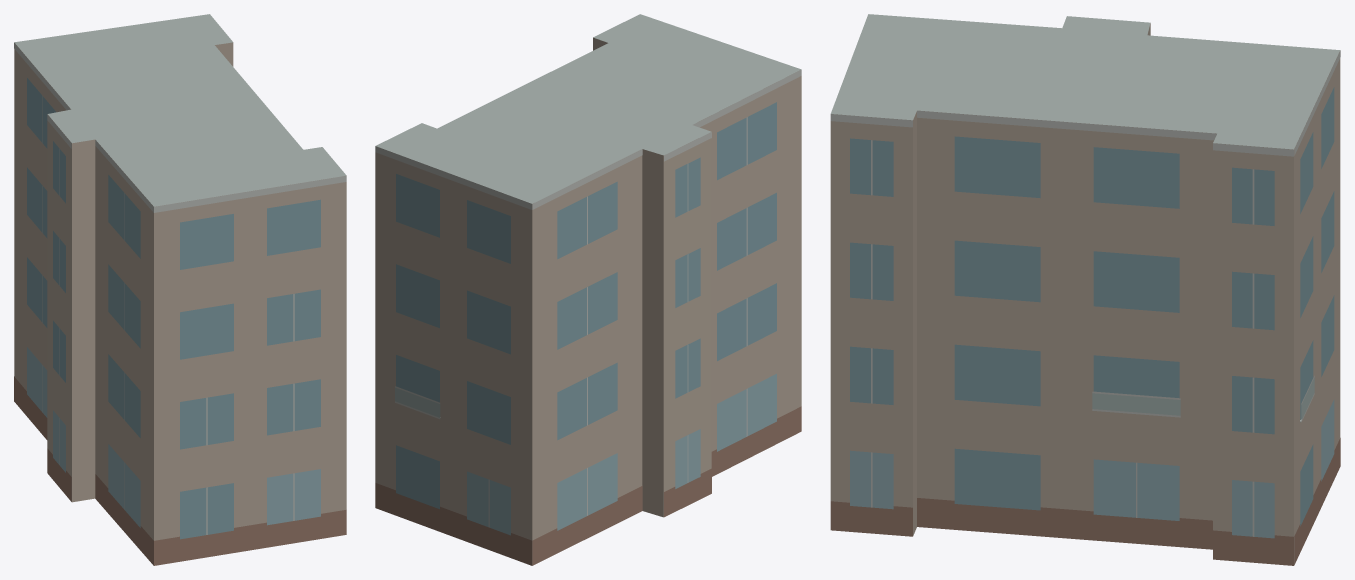
Rendered from survey-upis-32713678.glb.
3 renders of one model, left to right at view 1: azimuth 30°, elevation 25°; view 2: azimuth 150°, elevation 25°; view 3: azimuth 270°, elevation 25°, orthographic. The views are drawn at different scales.
Visible parts, largest first — view 1: survey-upis-32713678.tmp; view 2: survey-upis-32713678.tmp; view 3: survey-upis-32713678.tmp.
Boxes of the visible parts, box(x1,y1,x2,y2) form: survey-upis-32713678.tmp: box(14, 14, 346, 565); survey-upis-32713678.tmp: box(375, 14, 801, 565); survey-upis-32713678.tmp: box(830, 14, 1340, 565).
Size of the model in its own units: 9.85 by 14.1 by 15.66.
